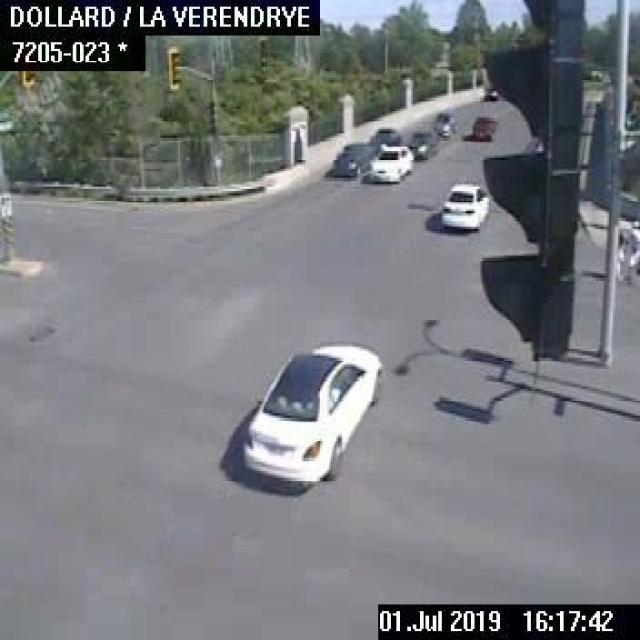vehicle: (240, 340, 384, 484), (438, 180, 489, 229), (327, 140, 375, 181), (368, 140, 414, 182), (406, 127, 440, 160), (469, 111, 500, 145), (432, 110, 460, 138), (367, 125, 401, 148), (478, 82, 498, 102)
